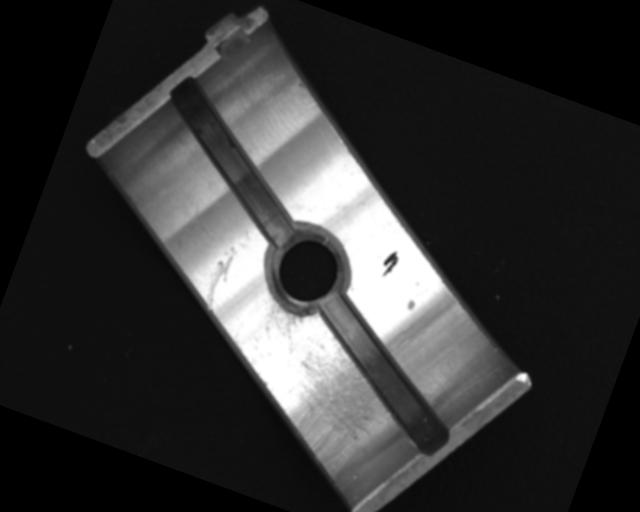blot: (377, 246, 401, 280)
bruise: (403, 297, 418, 314)
gap: (135, 75, 331, 249), (290, 294, 481, 457)
hole: (254, 218, 360, 325)
nick: (198, 242, 241, 314)
scratch: (215, 295, 403, 488)
